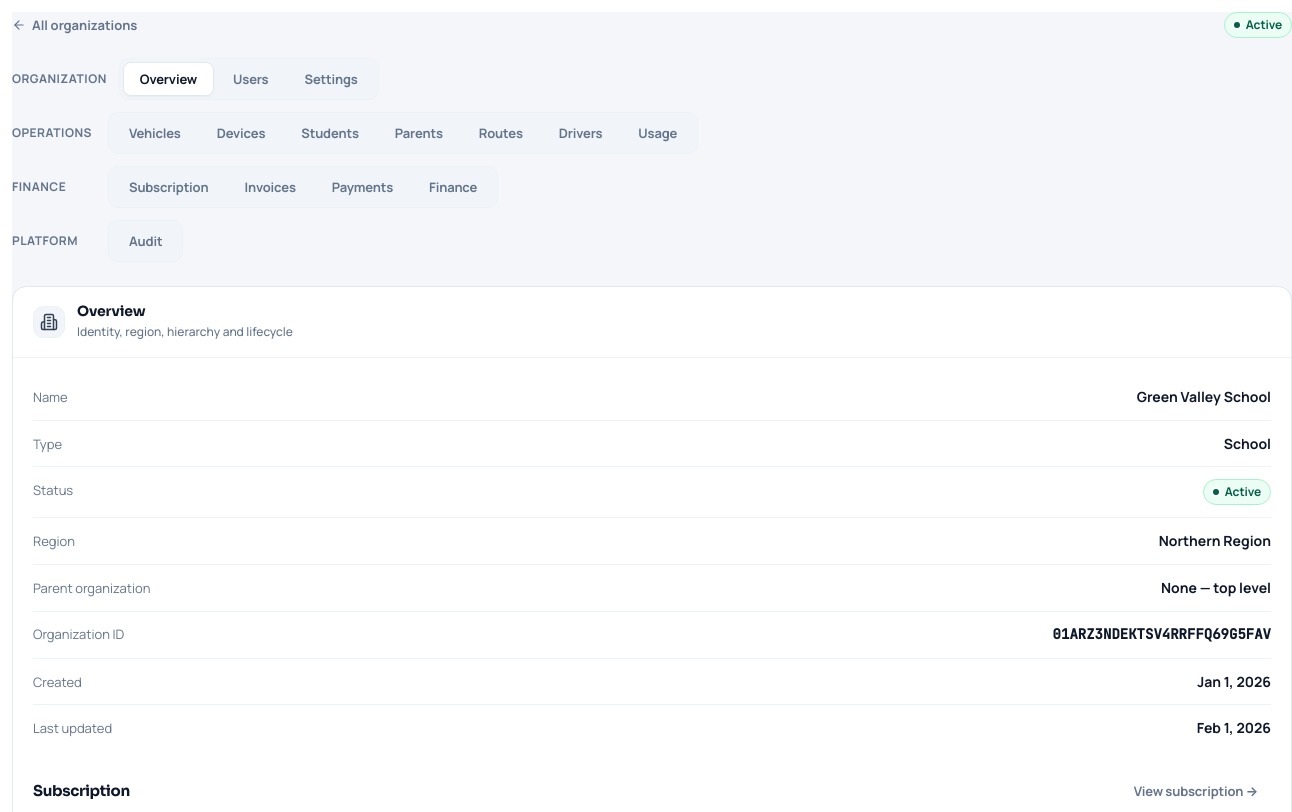
OrganizationDetailsPage › keeps school finance visibly separate from the RAAD subscription
Expected: the text "Green Valley School" is shown, [1137,386,1271,408]
Click the tab "Finance" at (453, 187), box [412,170,494,204]
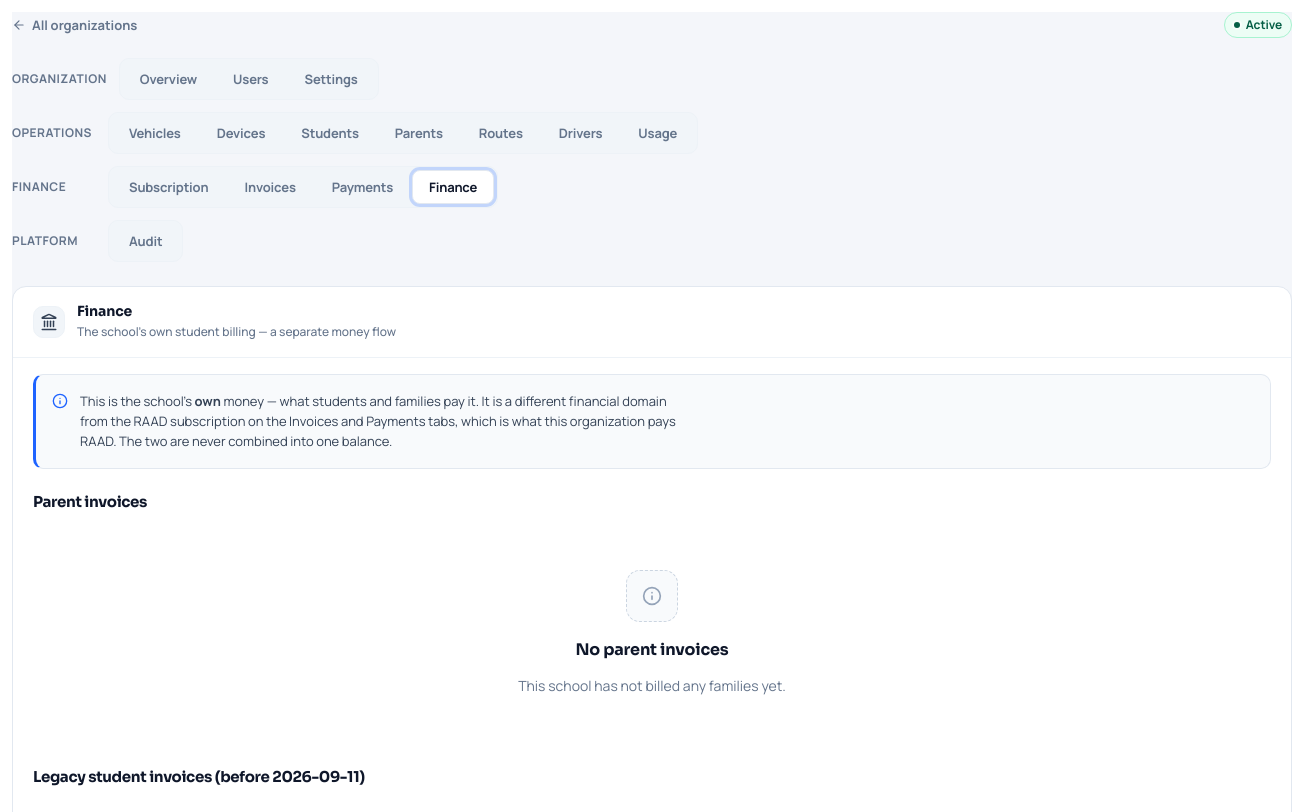
Now the text "different financial domain from the RAAD subscription" is shown, box [80,392,676,450]
